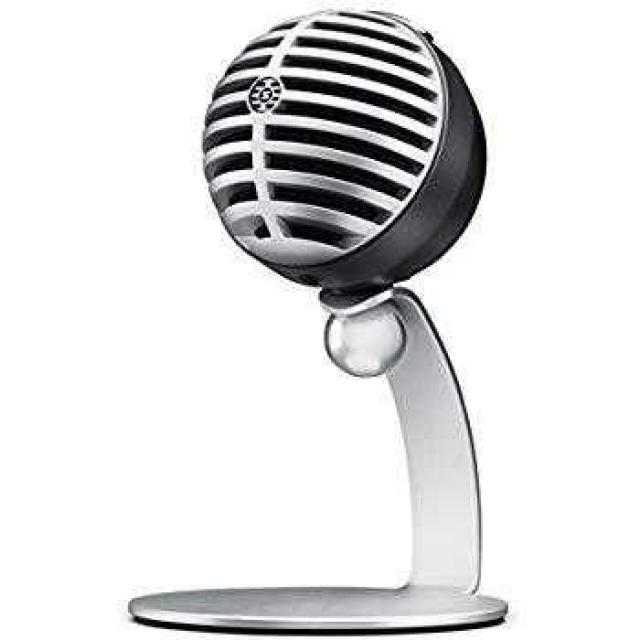microphone: (206, 6, 476, 293)
